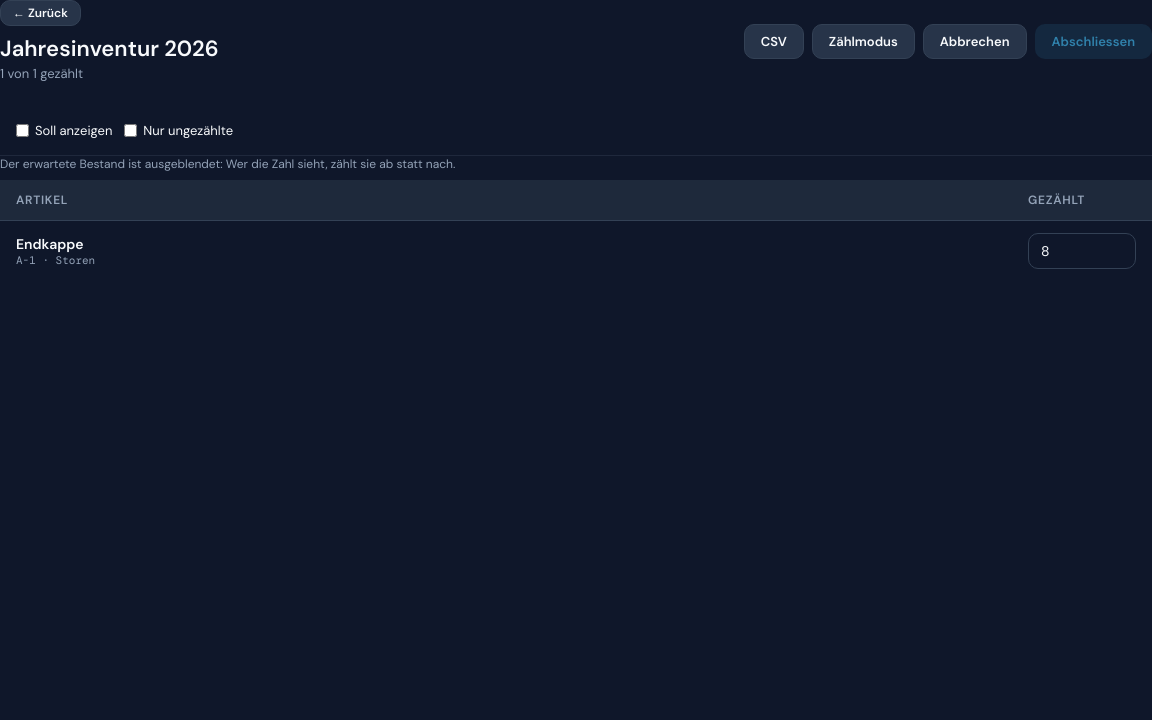
Scenario: Zählmaske › sagt nach dem Abschluss, wie viele Positionen ohne Einkaufspreis fehlen
Expected: the text "Endkappe" is shown, [16, 235, 84, 253]
What coordinates should you click on to do the following:
click the button "Abschliessen"
I would click on:
 (1093, 41)
Its box is [1034, 24, 1151, 58].
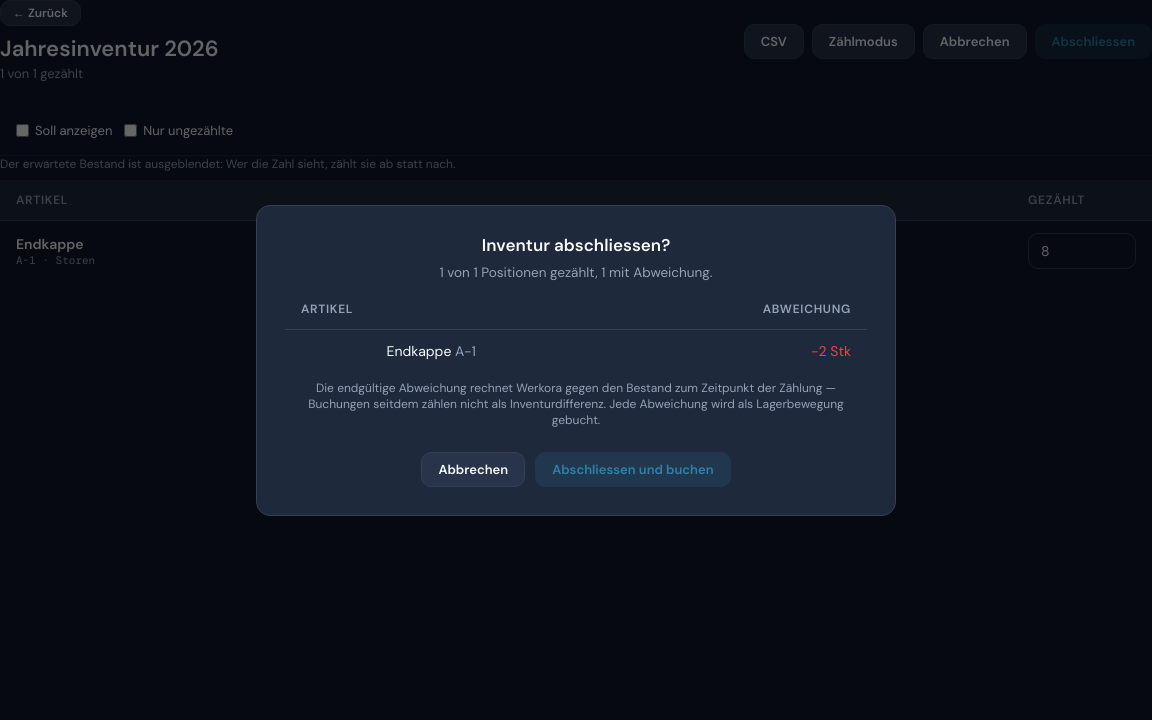
What coordinates should you click on to do the following:
click the button "Abschliessen und buchen"
I would click on:
 (633, 469)
Its box is [535, 452, 731, 486].
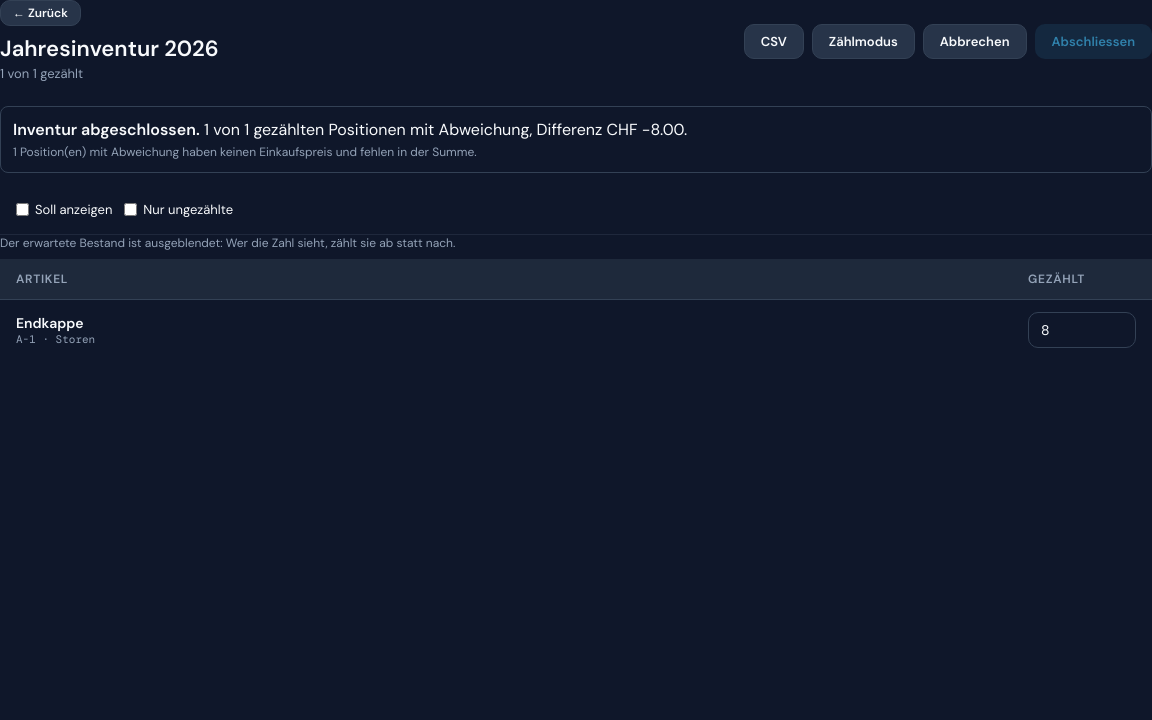
Expected: the text "keinen Einkaufspreis" is shown, [17, 144, 477, 160]
